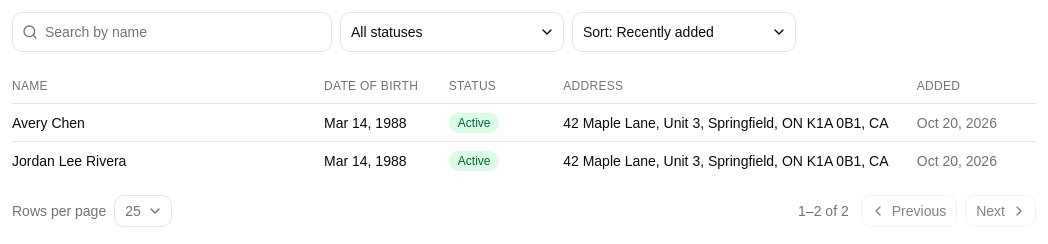
it: PatientDirectory › name search › searches with the Search button and returns focus to the search box
Type "riv" into the search field named "Search patients by name" at point(172, 32), box top-left (12, 12), bottom-right (332, 52)
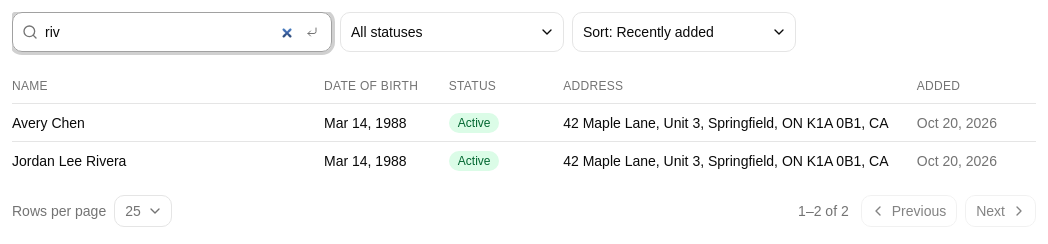
Click the button named "Search" at point(312, 32), box top-left (300, 20), bottom-right (324, 44)
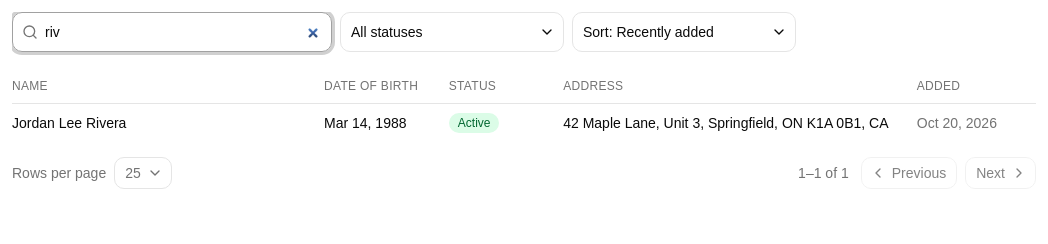
Now the link "Avery Chen" is gone
